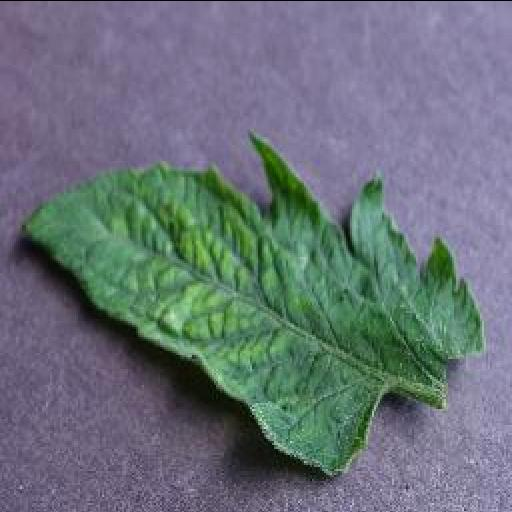Mosaic Virus: (20, 130, 488, 476)
